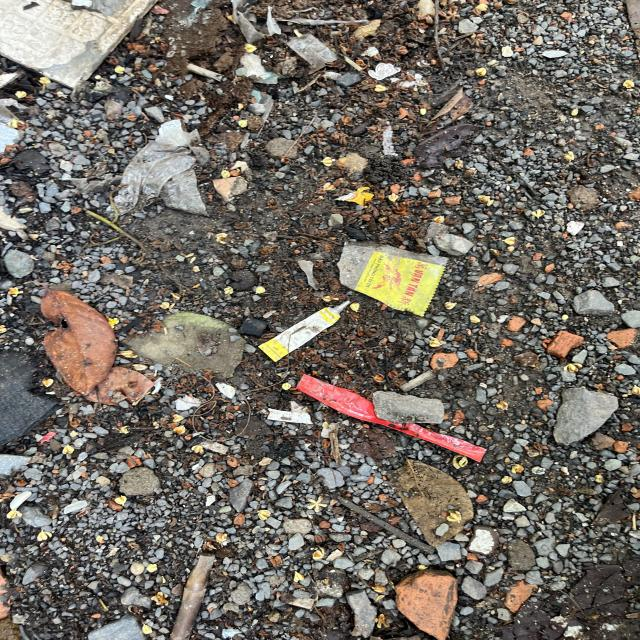bag: (106, 119, 211, 220)
packet: (294, 373, 488, 463), (337, 239, 450, 318)
